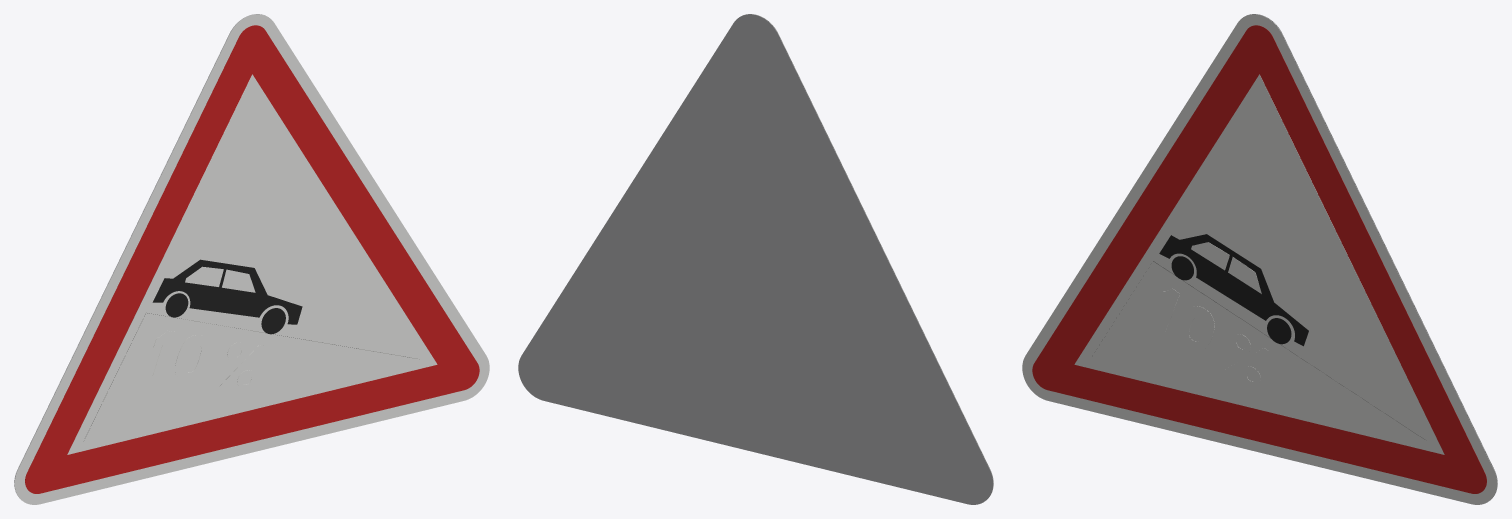
3 views of the same model, side by side, from view 1: azimuth 30°, elevation 25°; view 2: azimuth 150°, elevation 25°; view 3: azimuth 330°, elevation 25° (orthographic).
Visible parts, largest first — view 1: A16_p02, A16_p01, A16_p00, A16_p05, A16_p11, A16_p12, A16_dos, A16_p07, A16_p06; view 2: A16_dos, A16_p00; view 3: A16_p02, A16_p01, A16_p00, A16_p05, A16_p11, A16_p12, A16_dos, A16_p07, A16_p06.
Boxes of the visible parts, bbox=[...] form: A16_p02: bbox=[67, 74, 437, 454]; A16_p01: bbox=[25, 25, 479, 493]; A16_p00: bbox=[14, 14, 489, 504]; A16_p05: bbox=[152, 259, 302, 324]; A16_p11: bbox=[175, 335, 209, 381]; A16_p12: bbox=[220, 342, 262, 389]; A16_dos: bbox=[14, 14, 265, 500]; A16_p07: bbox=[185, 266, 223, 286]; A16_p06: bbox=[222, 269, 255, 292]; A16_dos: bbox=[518, 14, 993, 504]; A16_p00: bbox=[742, 14, 993, 500]; A16_p02: bbox=[1074, 74, 1444, 454]; A16_p01: bbox=[1032, 25, 1486, 493]; A16_p00: bbox=[1022, 14, 1497, 504]; A16_p05: bbox=[1159, 234, 1308, 346]; A16_p11: bbox=[1180, 306, 1214, 350]; A16_p12: bbox=[1225, 334, 1267, 385]; A16_dos: bbox=[1246, 14, 1497, 500]; A16_p07: bbox=[1191, 242, 1229, 270]; A16_p06: bbox=[1228, 257, 1261, 293].
Size of the model in its own units: 1 by 0.8803 by 0.0067.
